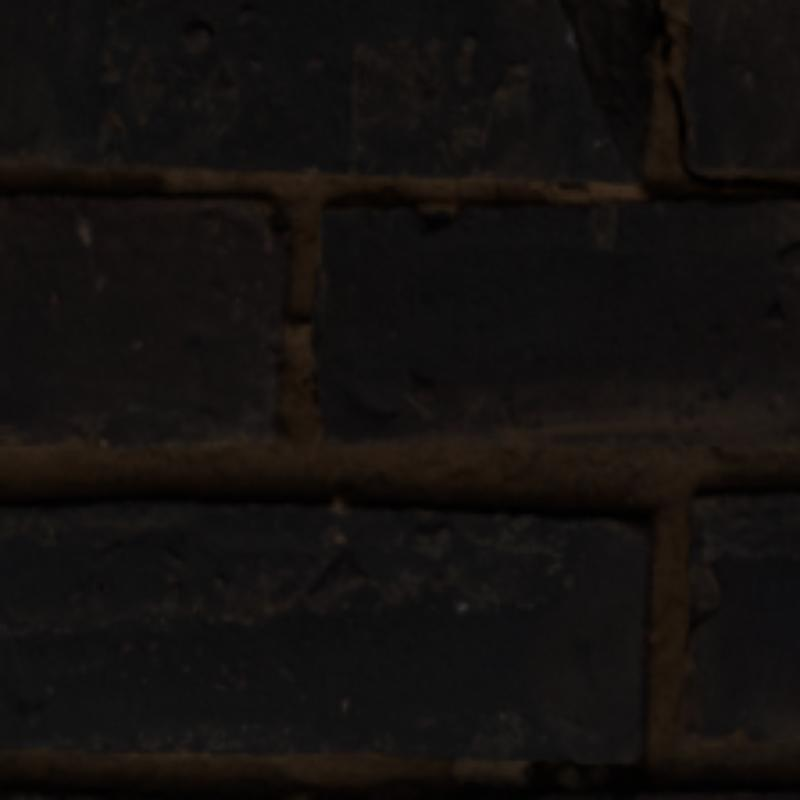crack: (646, 0, 796, 196)
